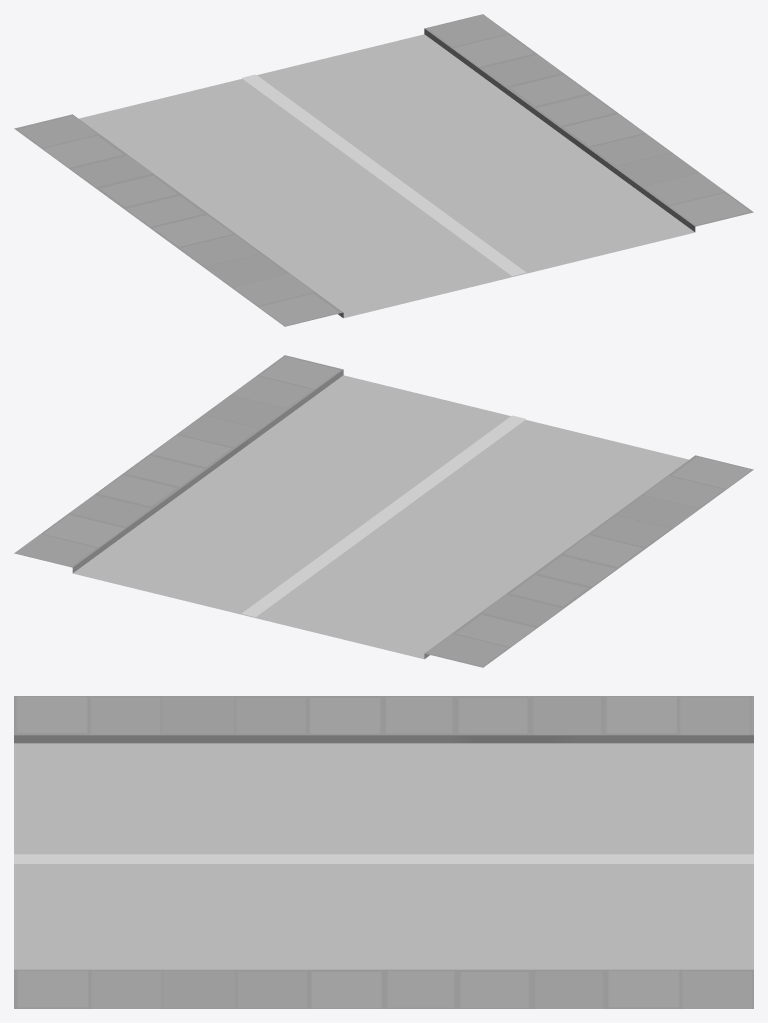
Rendered from tile_road_1x1_a.fbx.
3 renders of one model, top to bottom at view 1: azimuth 30°, elevation 25°; view 2: azimuth 150°, elevation 25°; view 3: azimuth 270°, elevation 25°, orthographic. The views are drawn at different scales.
Parts seen in each view (by area): view 1: tile_road_1x1_a; view 2: tile_road_1x1_a; view 3: tile_road_1x1_a.
Part boxes in pixels (box(x1,y1,x2,y2)): tile_road_1x1_a: box(14, 14, 753, 326); tile_road_1x1_a: box(14, 355, 753, 667); tile_road_1x1_a: box(14, 696, 753, 1008).
Bounding box in the file's own units: 1600 × 19.01 × 1600.
